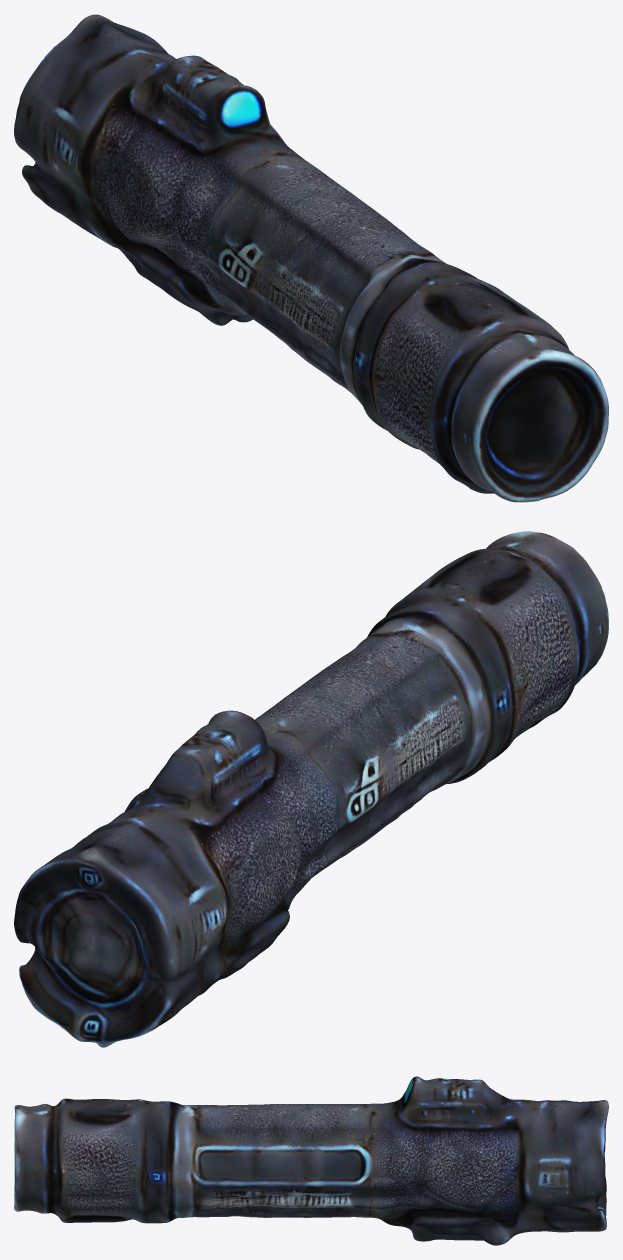
File: laser1.glb
The picture shows the model from 3 angles, top to bottom: view 1: azimuth 30°, elevation 25°; view 2: azimuth 150°, elevation 25°; view 3: azimuth 270°, elevation 25°; orthographic projection. The views are drawn at different scales.
Visible parts, largest first — view 1: model; view 2: model; view 3: model.
Part boxes in pixels (x1=…): model: x1=14, y1=14, x2=608, y2=502; model: x1=14, y1=531, x2=608, y2=1047; model: x1=14, y1=1076, x2=608, y2=1245.
Size of the model in its own units: 0.3775 by 0.541 by 1.86.
Materials: 1 (1 with a texture image).
